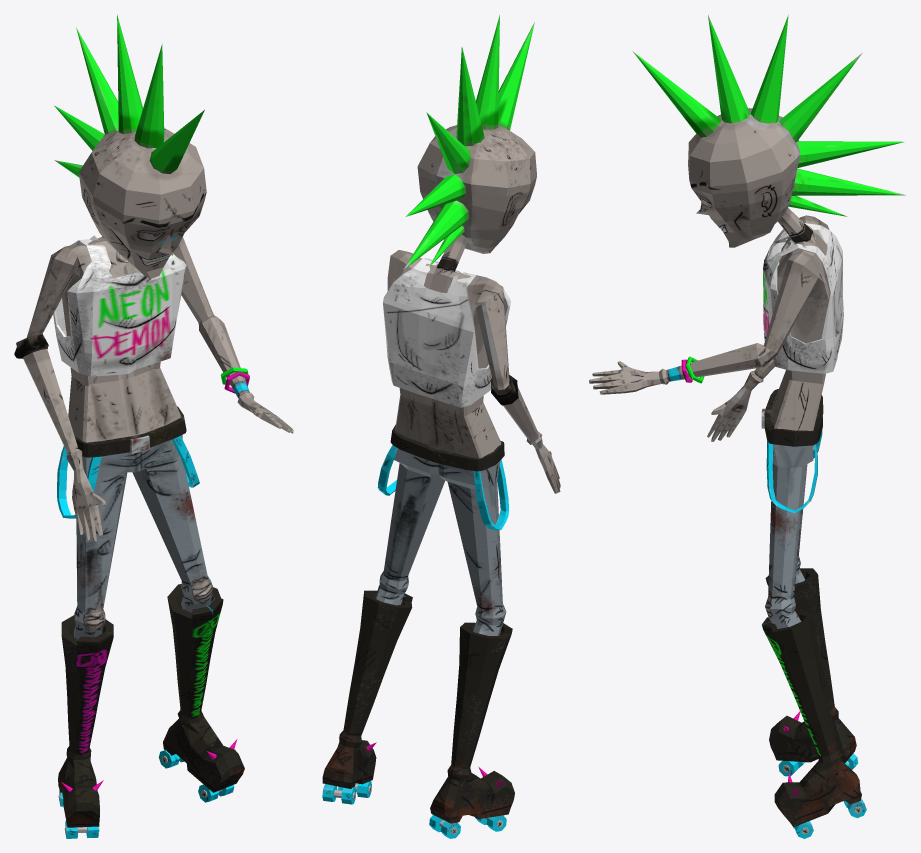
The model's file is punkAnimation_000027.obj.
3 views of the same model, side by side, from view 1: azimuth 30°, elevation 25°; view 2: azimuth 150°, elevation 25°; view 3: azimuth 270°, elevation 25° (orthographic). The views are drawn at different scales.
Visible parts, largest first — view 1: Cube.004_Cube.003; view 2: Cube.004_Cube.003; view 3: Cube.004_Cube.003.
Part boxes in pixels (box(x1,y1,x2,y2)): Cube.004_Cube.003: box(14, 14, 293, 838); Cube.004_Cube.003: box(322, 15, 560, 838); Cube.004_Cube.003: box(589, 15, 906, 838).
Bounding box in the file's own units: 1.99 × 7.52 × 2.8.
